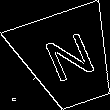N_S: (36, 28, 99, 90)
